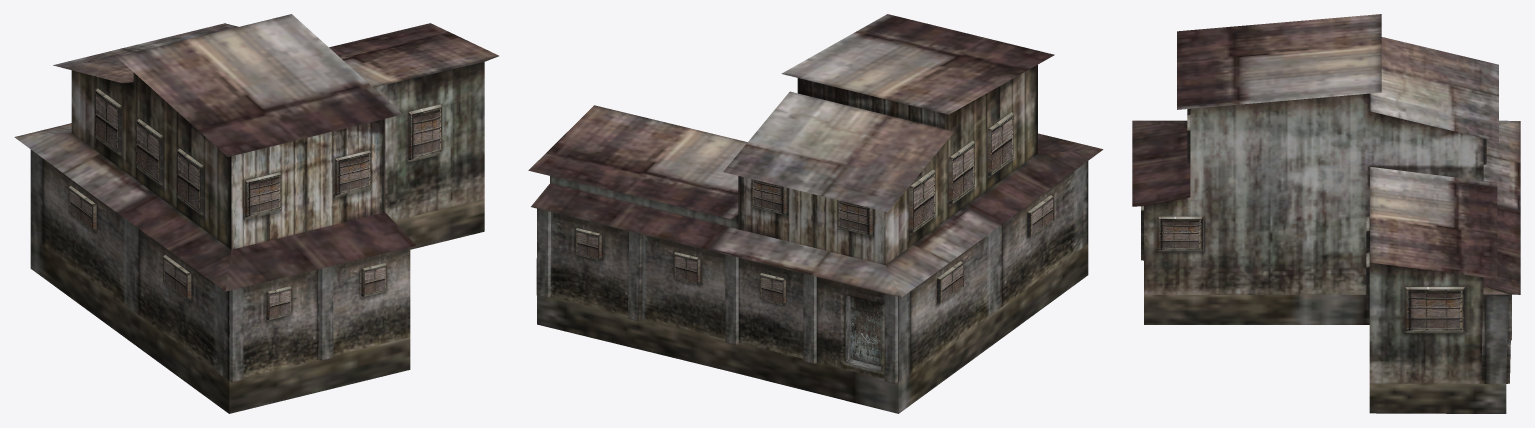
File: Moghut2.glb
3 views of the same model, side by side, from view 1: azimuth 30°, elevation 25°; view 2: azimuth 150°, elevation 25°; view 3: azimuth 270°, elevation 25° (orthographic). The views are drawn at different scales.
Parts seen in each view (by area): view 1: _Moghut2; view 2: _Moghut2; view 3: _Moghut2.
Boxes of the visible parts, <box> form: _Moghut2: <box>14,14,498,413</box>; _Moghut2: <box>528,14,1103,413</box>; _Moghut2: <box>1132,14,1520,413</box>.
Size of the model in its own units: 13.14 by 8.03 by 11.91.
Materials: 4 (4 with a texture image).
